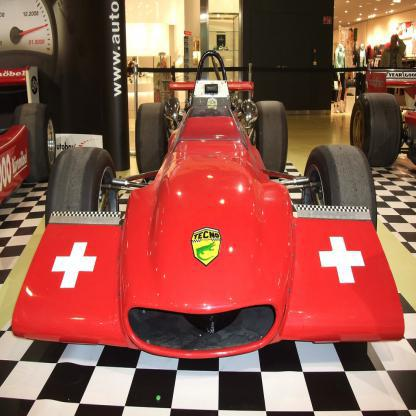car: (31, 69, 394, 368), (0, 61, 58, 208), (349, 65, 415, 168)
